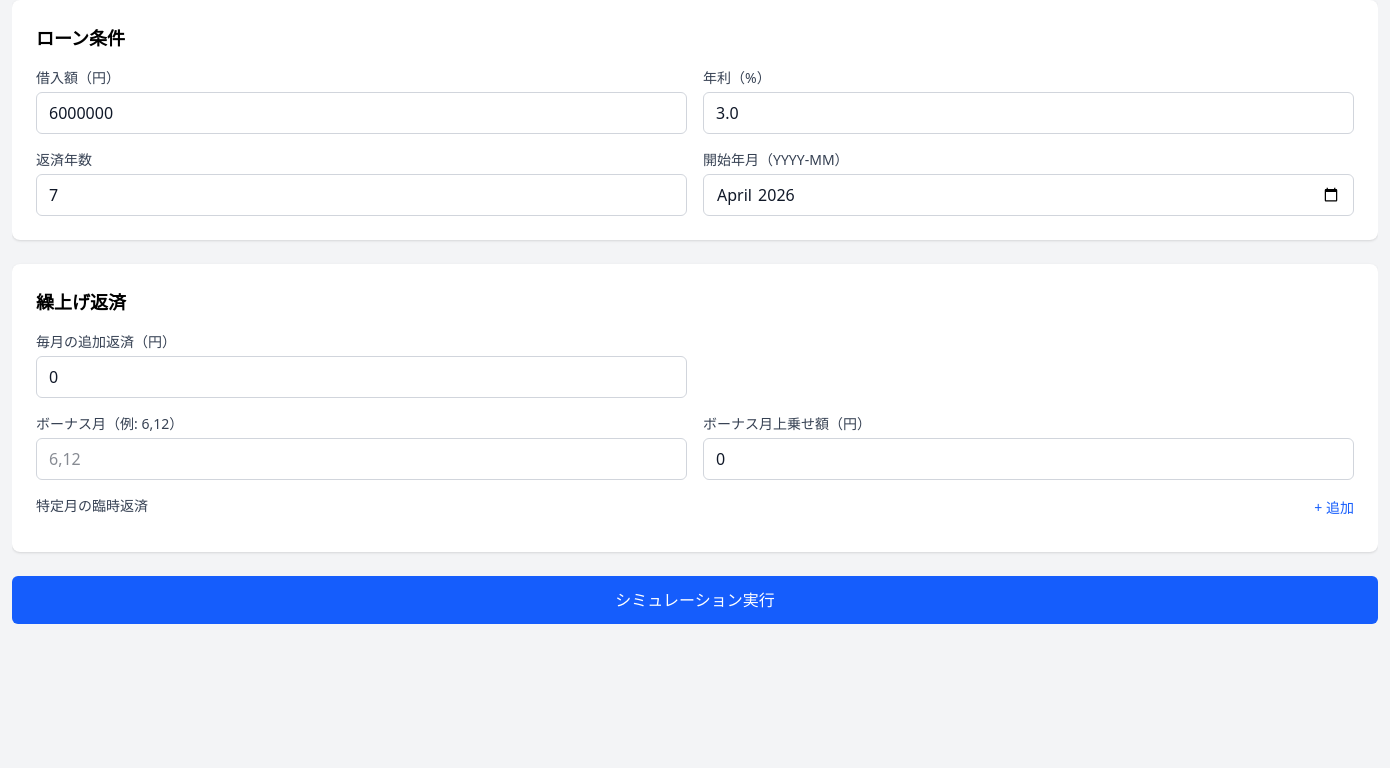
it: LoanForm › 臨時返済の追加・削除 › 削除ボタンで臨時返済フィールドが削除される
Click the button "+ 追加": coordinates (1334, 508) [1314,498,1354,518]
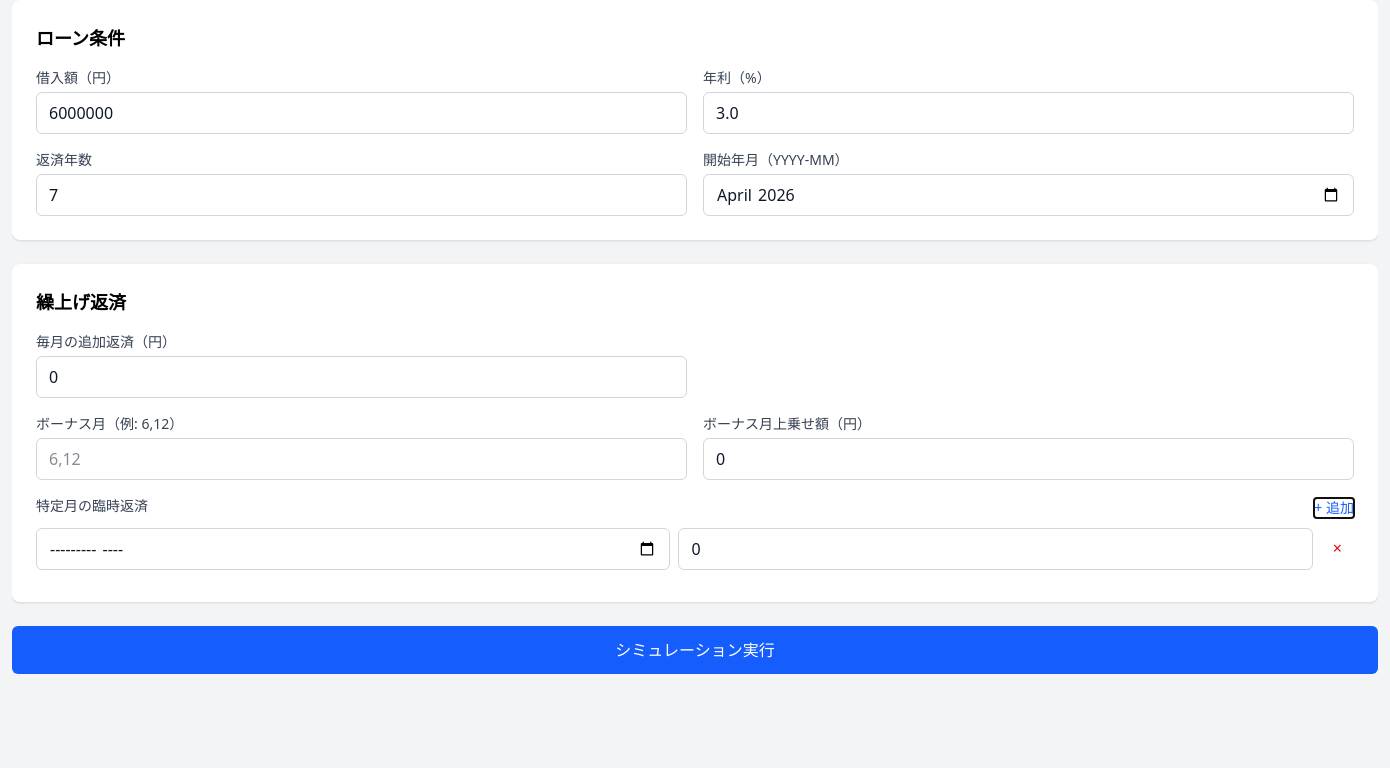
Click the button "+ 追加": coordinates (1334, 508) [1314,498,1354,518]
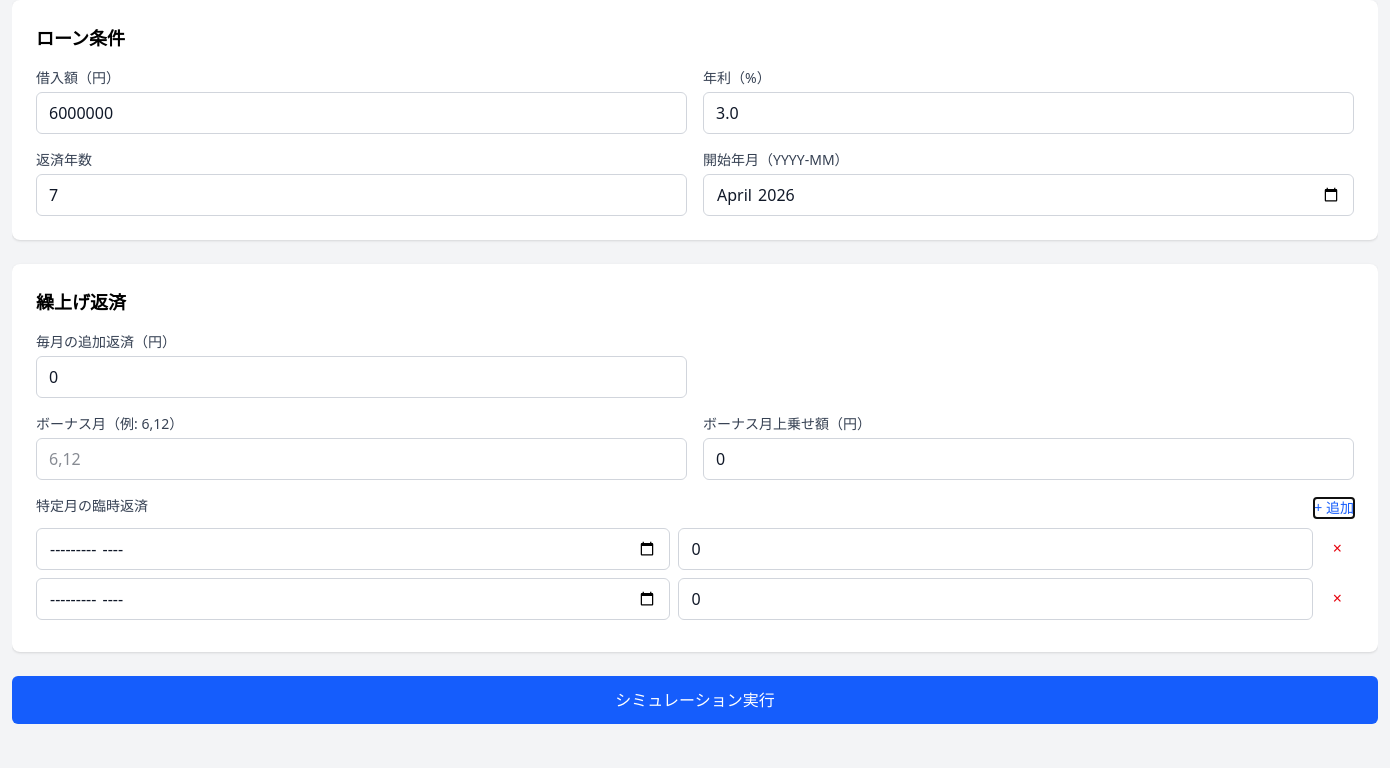
Now the number of fields with placeholder "YYYY-MM" is 2, box [36,528,670,570]; [36,578,670,620]
1つ削除（確認ダイアログあり）
Click the button named "臨時返済1を削除": coordinates (1337, 548) [1321,528,1354,568]
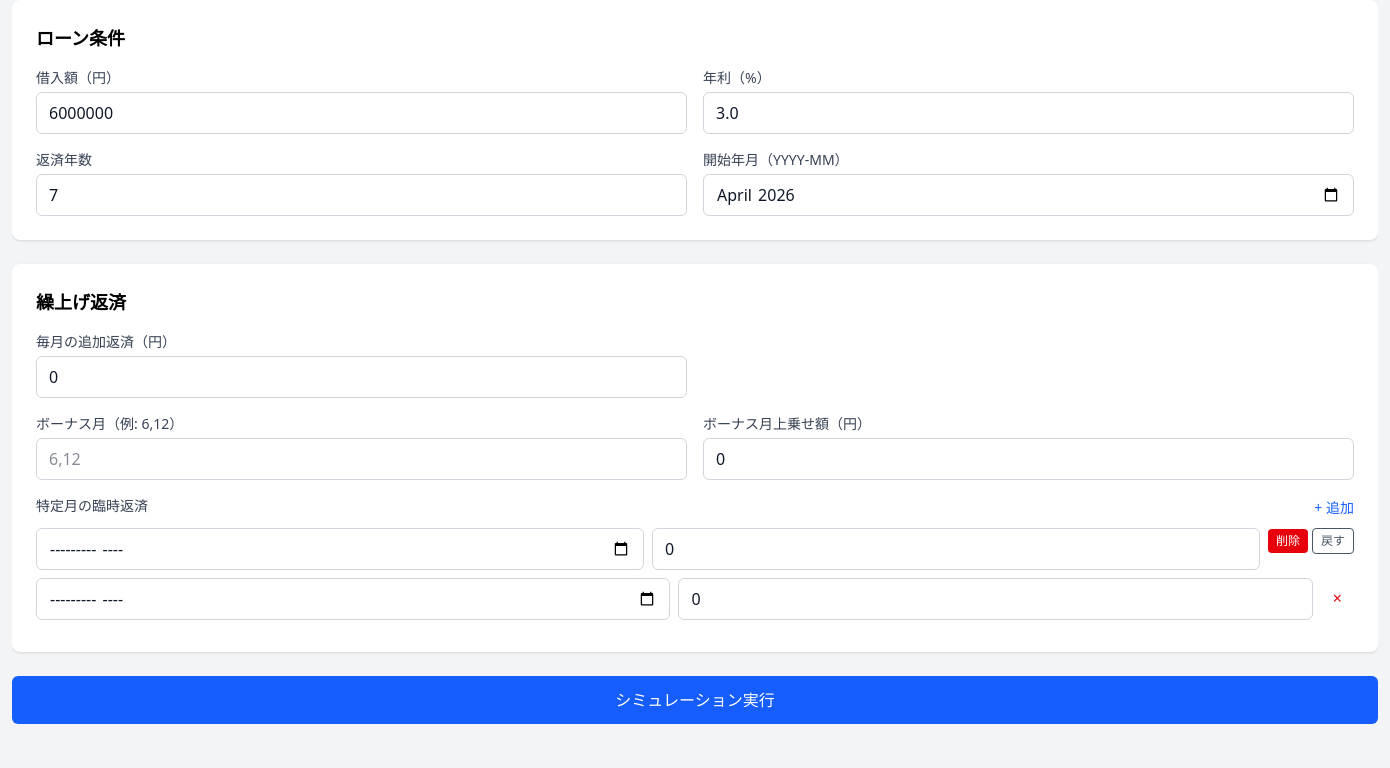
× クリックで確認ボタンが表示される
Click the button with aria-label "臨時返済1の削除を確定": coordinates (1288, 541) [1268,529,1308,553]
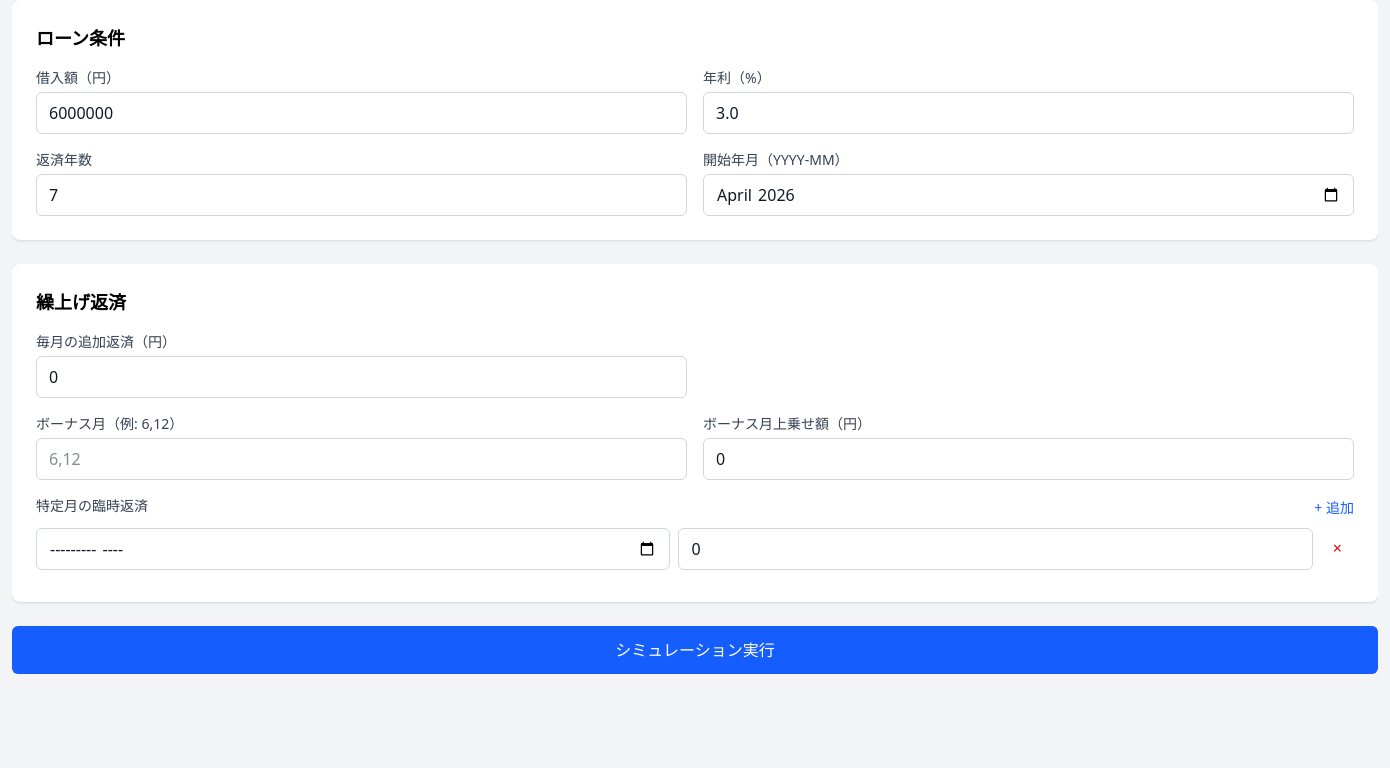
Now the number of fields with placeholder "YYYY-MM" is 1, box [36,528,670,570]
